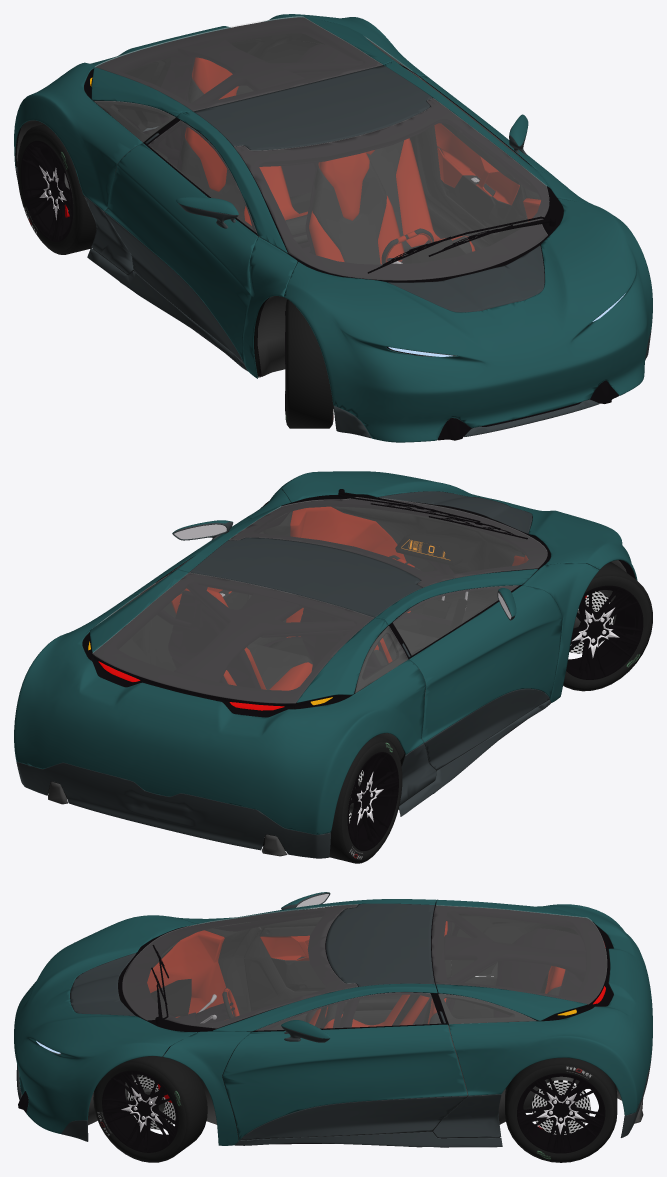
File: hero-coupe.glb
The picture shows the model from 3 angles, top to bottom: view 1: azimuth 30°, elevation 25°; view 2: azimuth 150°, elevation 25°; view 3: azimuth 270°, elevation 25°; orthographic projection. The views are drawn at different scales.
Parts seen in each view (by area): view 1: BodyHood, BodyWindshield, BodyRearwindow, BodyDoorRColor1, BodyRearPanelsColor1, BodyRoofPanel, BodyWindshieldGasket, InteriorSeatsColor1, InteriorSeatsColor2, BodyPillars, InteriorPillar, InteriorRearHatch (+21 smaller); view 2: BodyRearPanelsColor1, BodyRearwindow, BodyWindshield, BodyPanelsColor2, BodyDoorRColor1, BodyRoofPanel, BodyHood, InteriorRearHatch, BodyPillars, InteriorPillar, BodyWindshieldGasket, InteriorDashMid (+21 smaller); view 3: BodyRearPanelsColor1, BodyWindshield, BodyDoorLColor1, BodyHood, BodyRearwindow, BodyRoofPanel, BodyPillars, BodyWindshieldGasket, BodyDoorLColor2, BodyPanelsColor2, WheelFrontL, InteriorRearHatch (+25 smaller).
Boxes of the visible parts, x1,y1,x2,y2 form: BodyHood: [283, 198, 652, 442]; BodyWindshield: [234, 98, 549, 280]; BodyRearwindow: [95, 16, 382, 110]; BodyDoorRColor1: [104, 143, 257, 362]; BodyRearPanelsColor1: [14, 14, 428, 210]; BodyRoofPanel: [193, 65, 432, 150]; BodyWindshieldGasket: [234, 99, 563, 282]; InteriorSeatsColor1: [185, 57, 475, 264]; InteriorSeatsColor2: [180, 78, 472, 264]; BodyPillars: [176, 61, 598, 378]; InteriorPillar: [158, 37, 434, 168]; InteriorRearHatch: [93, 17, 383, 117]; BodyRearPanelsColor1: [14, 569, 425, 834]; BodyRearwindow: [92, 573, 373, 703]; BodyWindshield: [229, 497, 547, 587]; BodyPanelsColor2: [16, 700, 550, 858]; BodyDoorRColor1: [409, 585, 562, 742]; BodyRoofPanel: [189, 537, 422, 617]; BodyHood: [279, 471, 637, 580]; InteriorRearHatch: [93, 573, 386, 707]; BodyPillars: [175, 489, 599, 702]; InteriorPillar: [174, 574, 417, 682]; BodyWindshieldGasket: [230, 497, 550, 587]; InteriorDashMid: [331, 503, 528, 622]; BodyRearPanelsColor1: [436, 899, 652, 1115]; BodyWindshield: [122, 904, 357, 1028]; BodyDoorLColor1: [222, 1024, 467, 1139]; BodyHood: [14, 915, 196, 1133]; BodyRearwindow: [432, 905, 606, 1003]; BodyRoofPanel: [326, 903, 434, 986]; BodyPillars: [163, 899, 437, 1145]; BodyWindshieldGasket: [118, 905, 357, 1032]; BodyDoorLColor2: [240, 1096, 467, 1140]; BodyPanelsColor2: [16, 1050, 652, 1147]; WheelFrontL: [93, 1054, 207, 1162]; InteriorRearHatch: [431, 905, 606, 1020].
Bounding box in the file's own units: 2.54 × 1.15 × 4.36.
22 materials, 5 textured.
